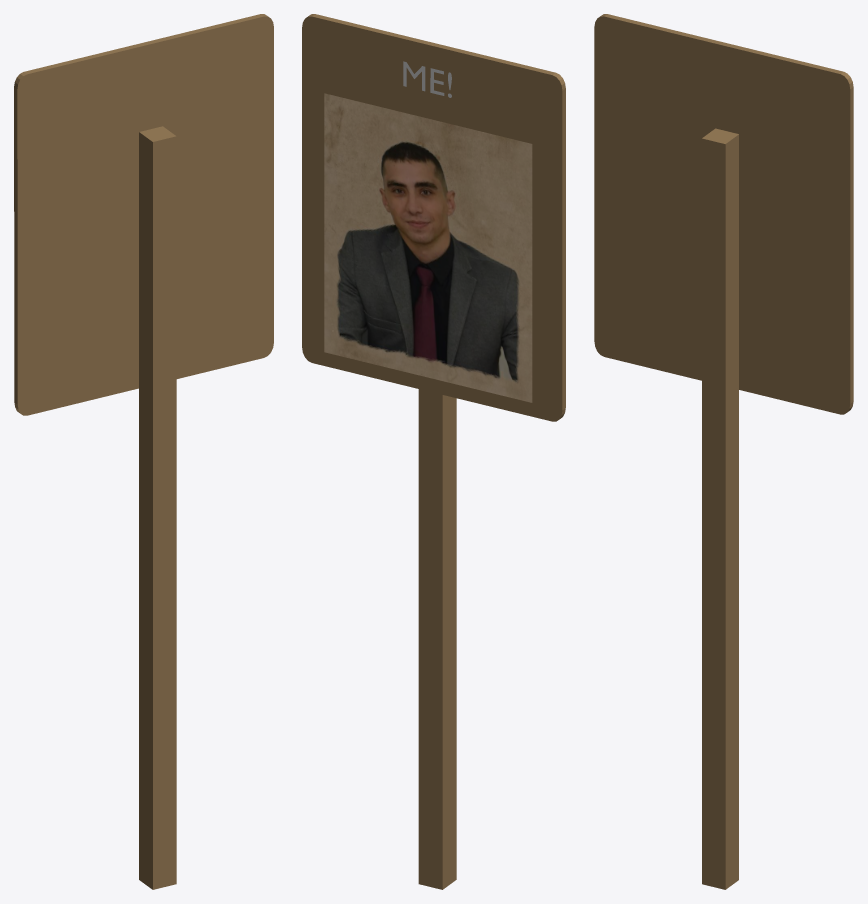
The model's file is poster1test.gltf.
3 views of the same model, side by side, from view 1: azimuth 30°, elevation 25°; view 2: azimuth 150°, elevation 25°; view 3: azimuth 330°, elevation 25° (orthographic).
Visible parts, largest first — view 1: Plane_Plane.001; view 2: Plane_Plane.001, Copy of old vintage retro american car show flyer template -, Text; view 3: Plane_Plane.001.
Boxes of the visible parts, box(x1,y1,x2,y2) form: Plane_Plane.001: box(14, 14, 273, 889); Plane_Plane.001: box(302, 14, 565, 889); Copy of old vintage retro american car show flyer template -: box(324, 93, 532, 402); Text: box(403, 61, 451, 97); Plane_Plane.001: box(594, 14, 853, 889).
Bounding box in the file's own units: 3.94 × 12.24 × 0.5092.
Materials: 3 (1 with a texture image).
